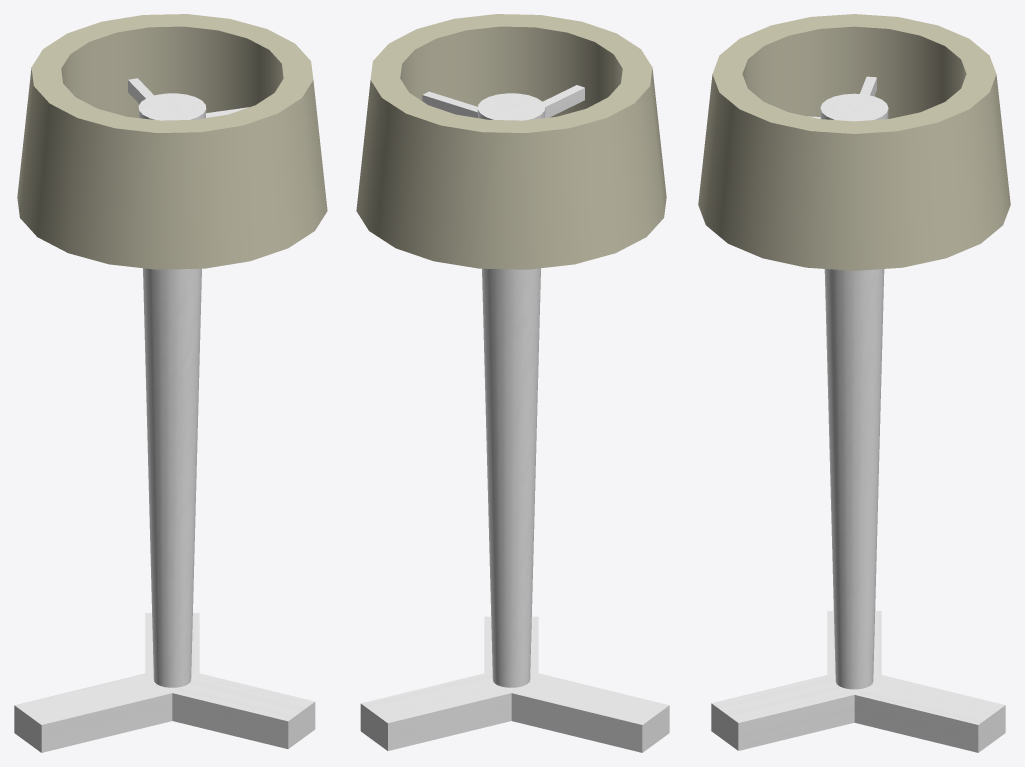
The model's file is lamp.fbx.
3 renders of one model, left to right at view 1: azimuth 30°, elevation 25°; view 2: azimuth 150°, elevation 25°; view 3: azimuth 270°, elevation 25°, orthographic.
Visible parts, largest first — view 1: polySurface726; view 2: polySurface726; view 3: polySurface726.
Boxes of the visible parts, x1,y1,x2,y2 form: polySurface726: [14, 14, 327, 752]; polySurface726: [356, 14, 669, 752]; polySurface726: [698, 14, 1010, 752].
Bounding box in the file's own units: 1.4 × 3.03 × 1.35.
Materials: 2 (1 with a texture image).
